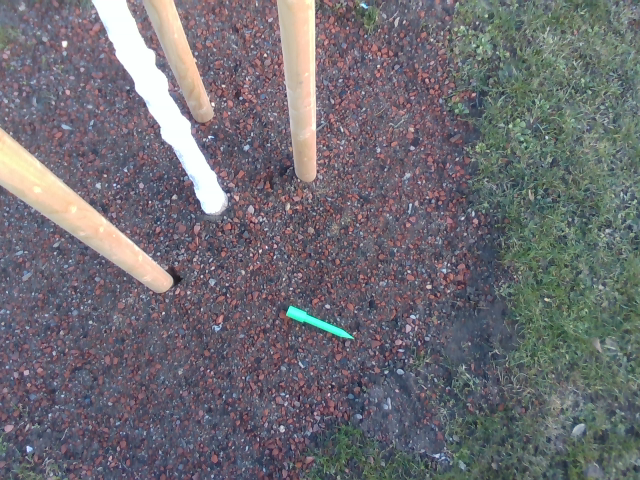Probe: (283, 302, 358, 344)
